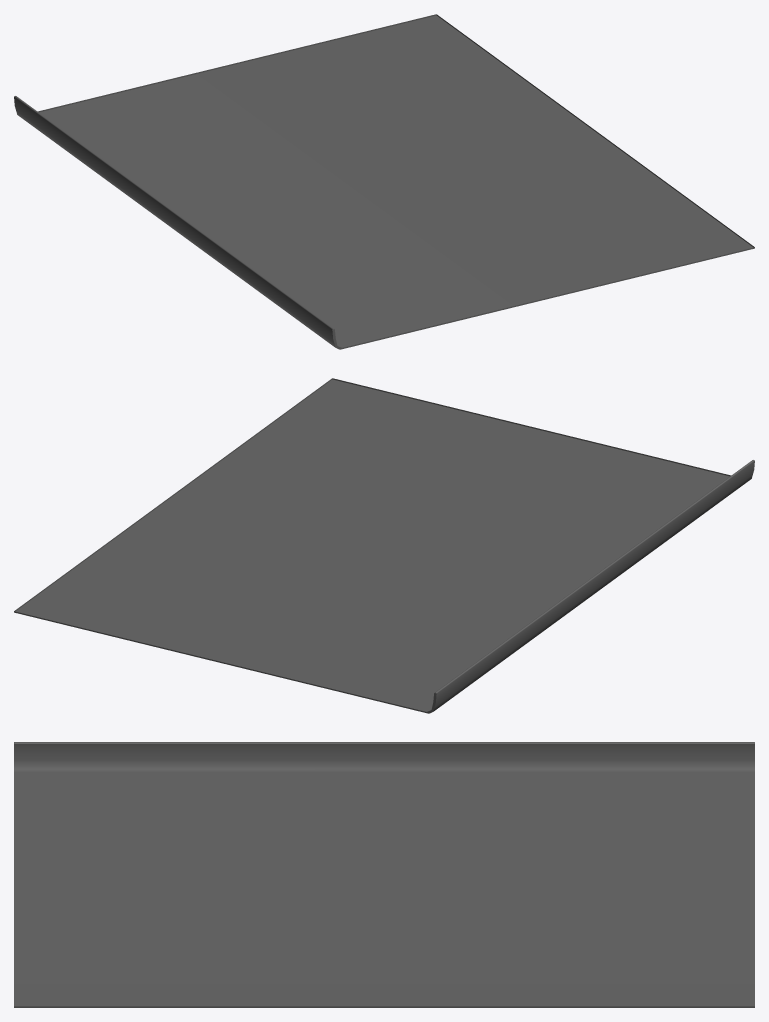
The model's file is Book_8_book_8_2.obj.
The picture shows the model from 3 angles, top to bottom: view 1: azimuth 30°, elevation 25°; view 2: azimuth 150°, elevation 25°; view 3: azimuth 270°, elevation 25°; orthographic projection. The views are drawn at different scales.
Bounding box in the file's own units: 0.1956 × 0.00999 × 0.2552.
1 material, 1 textured.
